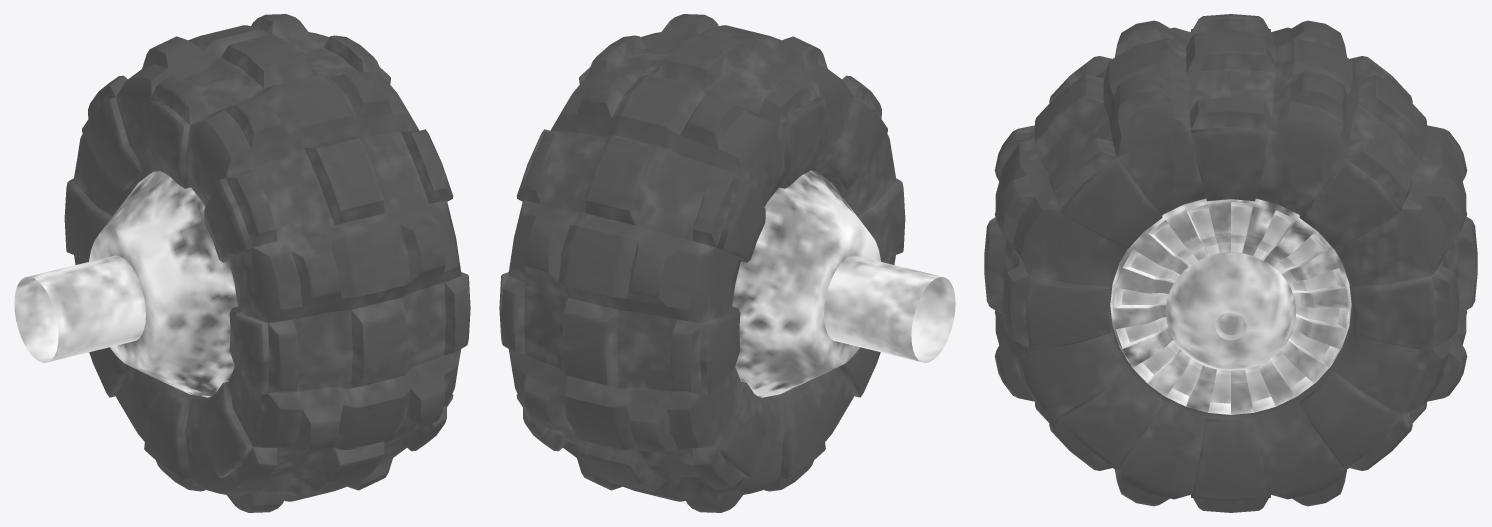
The model's file is buggy_wheel.glb.
3 renders of one model, left to right at view 1: azimuth 30°, elevation 25°; view 2: azimuth 150°, elevation 25°; view 3: azimuth 270°, elevation 25°, orthographic. The views are drawn at different scales.
Visible parts, largest first — view 1: buggy_wheel; view 2: buggy_wheel; view 3: buggy_wheel.
Boxes of the visible parts, x1,y1,x2,y2 form: buggy_wheel: (14,14,470,512); buggy_wheel: (499,14,955,512); buggy_wheel: (984,14,1477,512).
Bounding box in the file's own units: 0.6578 × 0.7645 × 0.7645.
Materials: 1 (1 with a texture image).
